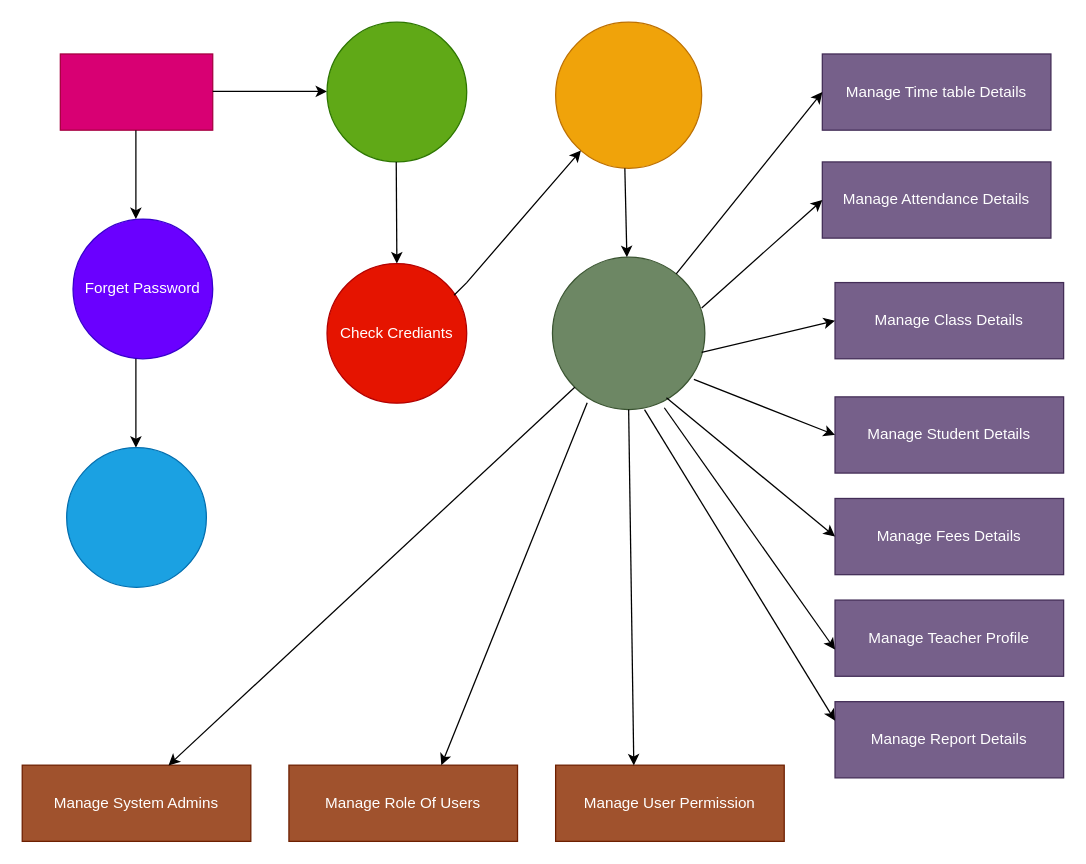
This 1086x864 diagram has some shape labels left out. The shapes that lost their labels are listed below. From the top down, each one's centre as x and y in pixels, then its label:
At point (136, 91): "Admin".
At point (396, 91): "Login to System".
At point (628, 94): "Check Role of Access".
At point (628, 333): "Manage Modules".
At point (135, 516): "Send Email Touger".
